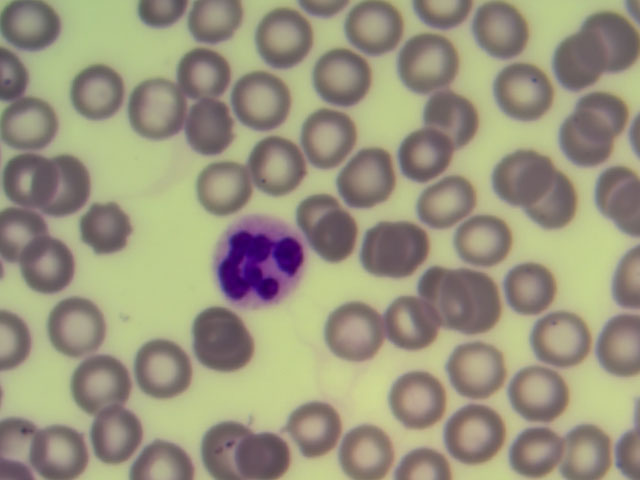RBC: (558, 416, 624, 480), (338, 416, 404, 480), (242, 416, 308, 480), (200, 416, 266, 480), (30, 416, 96, 480), (63, 62, 129, 125), (120, 76, 186, 139), (171, 48, 237, 111), (226, 67, 292, 130), (249, 7, 315, 70), (180, 101, 246, 164), (188, 164, 254, 227), (248, 131, 314, 194), (292, 107, 358, 170), (307, 55, 373, 118), (336, 5, 402, 68), (397, 28, 463, 91), (423, 88, 489, 151), (388, 127, 454, 190), (340, 142, 406, 205), (309, 206, 375, 269), (288, 185, 354, 248), (362, 212, 428, 275), (421, 169, 487, 232), (452, 212, 518, 275), (479, 136, 545, 199), (511, 168, 577, 231), (495, 60, 561, 123), (475, 2, 541, 65), (535, 23, 601, 86), (573, 7, 639, 70), (553, 110, 619, 173), (569, 92, 635, 155), (533, 305, 599, 368), (507, 363, 573, 426), (441, 337, 507, 400), (498, 262, 564, 325), (446, 275, 512, 338), (412, 253, 478, 316), (378, 296, 444, 359), (327, 300, 393, 363), (389, 370, 455, 433), (443, 405, 509, 468), (494, 413, 560, 476), (289, 401, 355, 464), (90, 404, 156, 467), (79, 351, 145, 414), (134, 333, 200, 396), (195, 309, 261, 372), (49, 300, 115, 363), (19, 232, 85, 295), (73, 197, 139, 260), (36, 153, 102, 216), (3, 148, 69, 211), (1, 91, 67, 154), (179, 1, 245, 63), (1, 1, 62, 51)
WBC: (217, 215, 312, 303)
